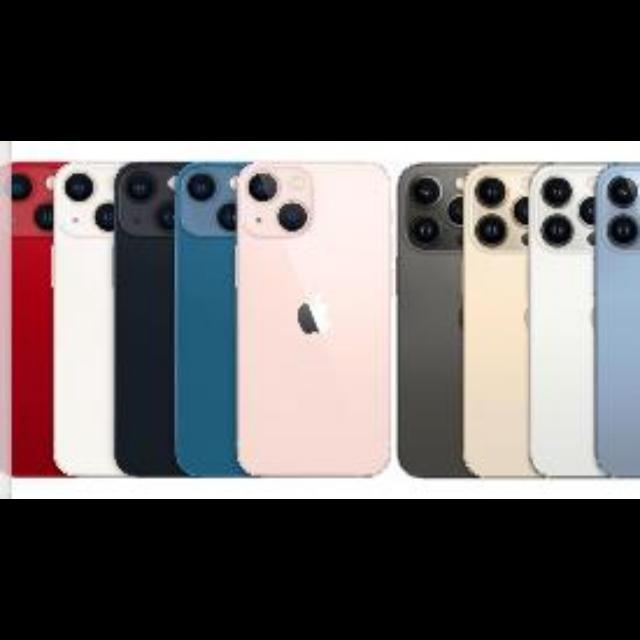Phone: (238, 160, 389, 476), (528, 163, 594, 477), (465, 164, 527, 482), (400, 161, 462, 479), (117, 159, 177, 477), (180, 158, 238, 478), (58, 160, 114, 476), (1, 162, 54, 478), (598, 162, 636, 474)
